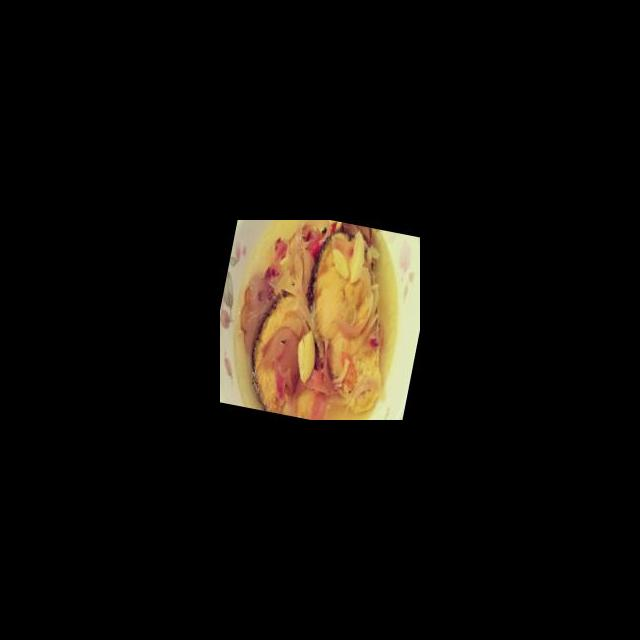ca hoi: (286, 220, 411, 417), (240, 281, 338, 420)
